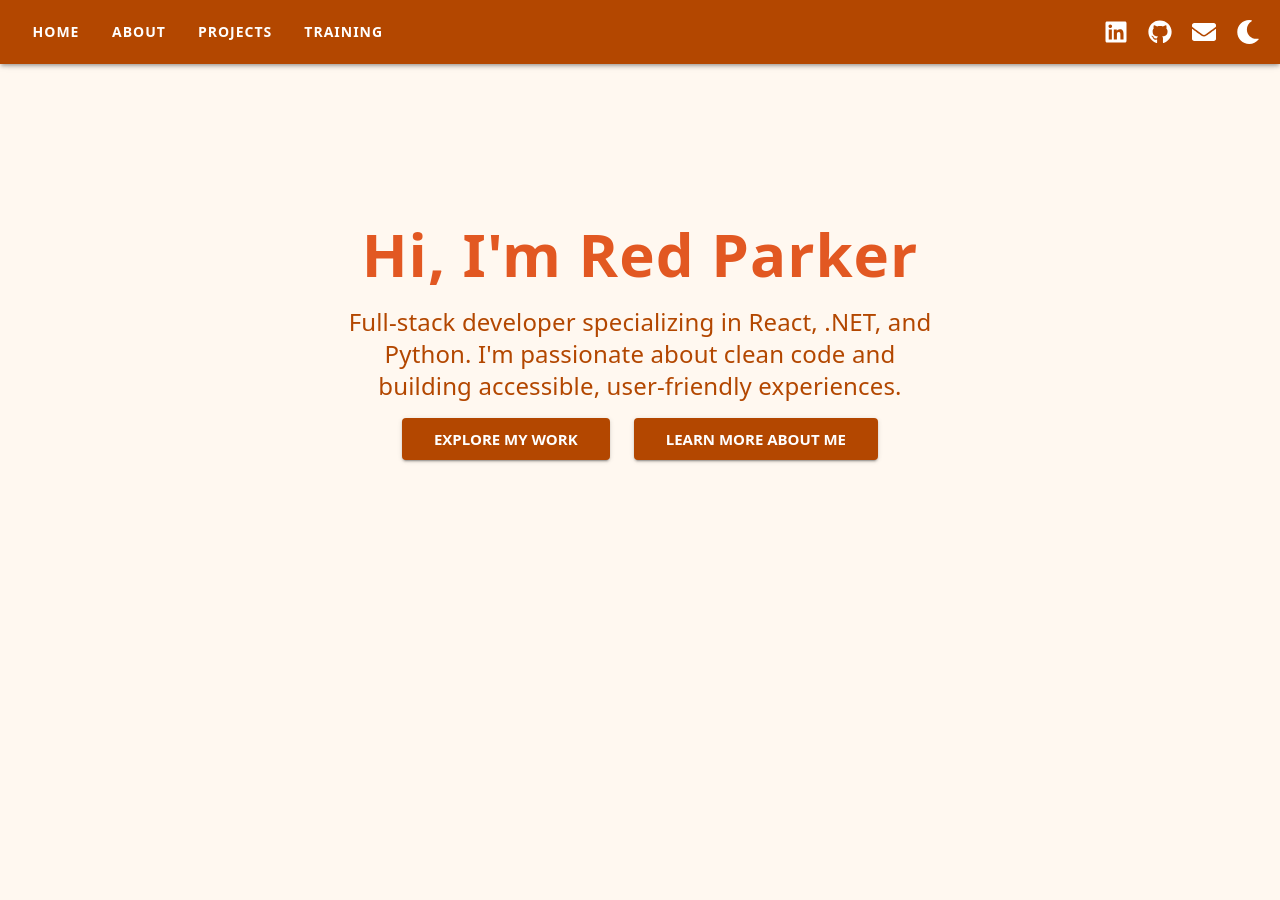
Test: App Navbar and Navigation › renders Home and navigates to Projects and About via Home page buttons
This screenshot has width=1280, height=900.
Expected: the heading "Hi, I'm Red Parker" is shown, [362,218,918,290]
# Click "Explore my work" (should go to Projects)
Click the button "Explore my work".
click(506, 439)  # box [402,418,610,460]
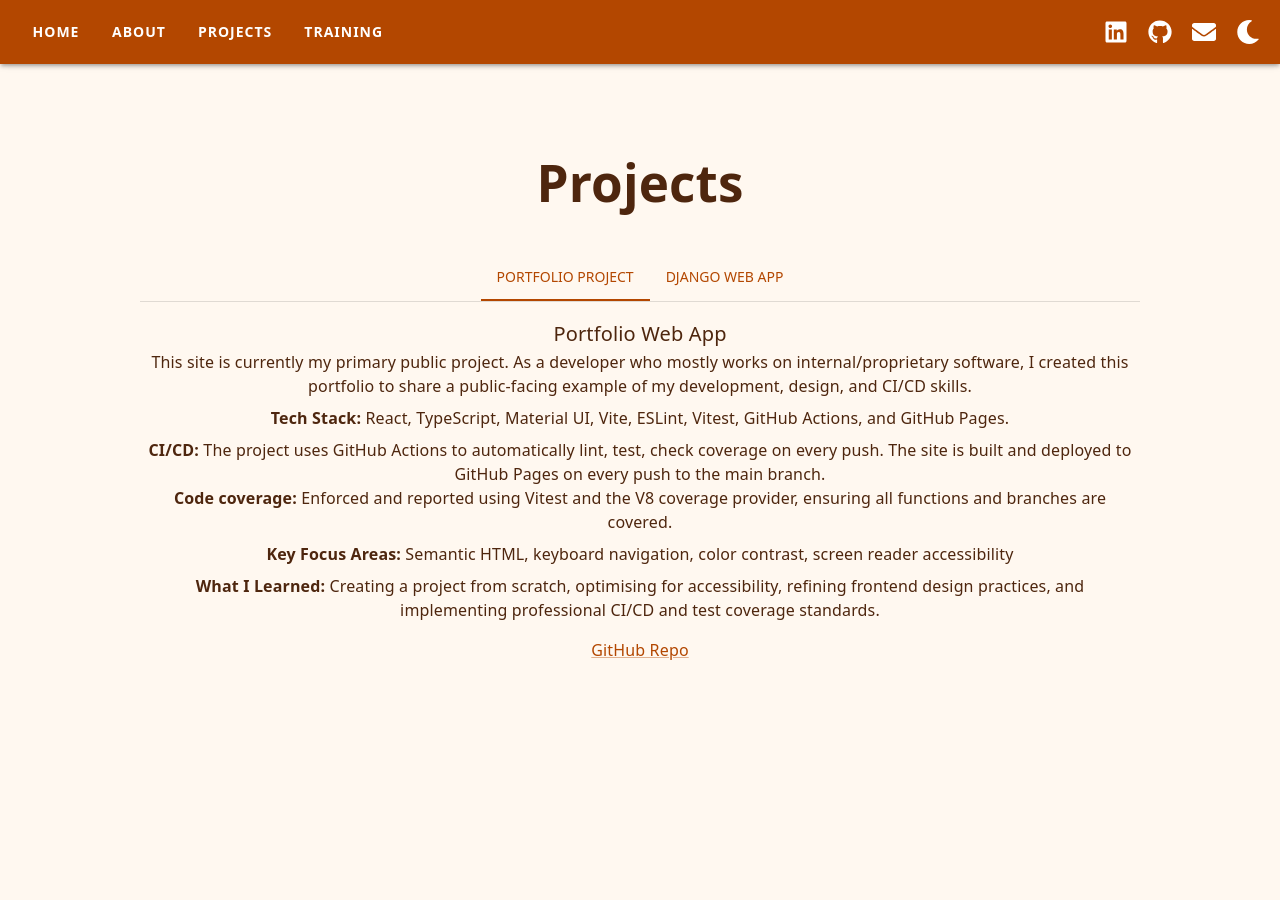
Expected: the heading "Projects" is shown, [536,147,744,217]
# Go back to Home
Click the button "Home".
click(56, 32)  # box [24,14,88,50]
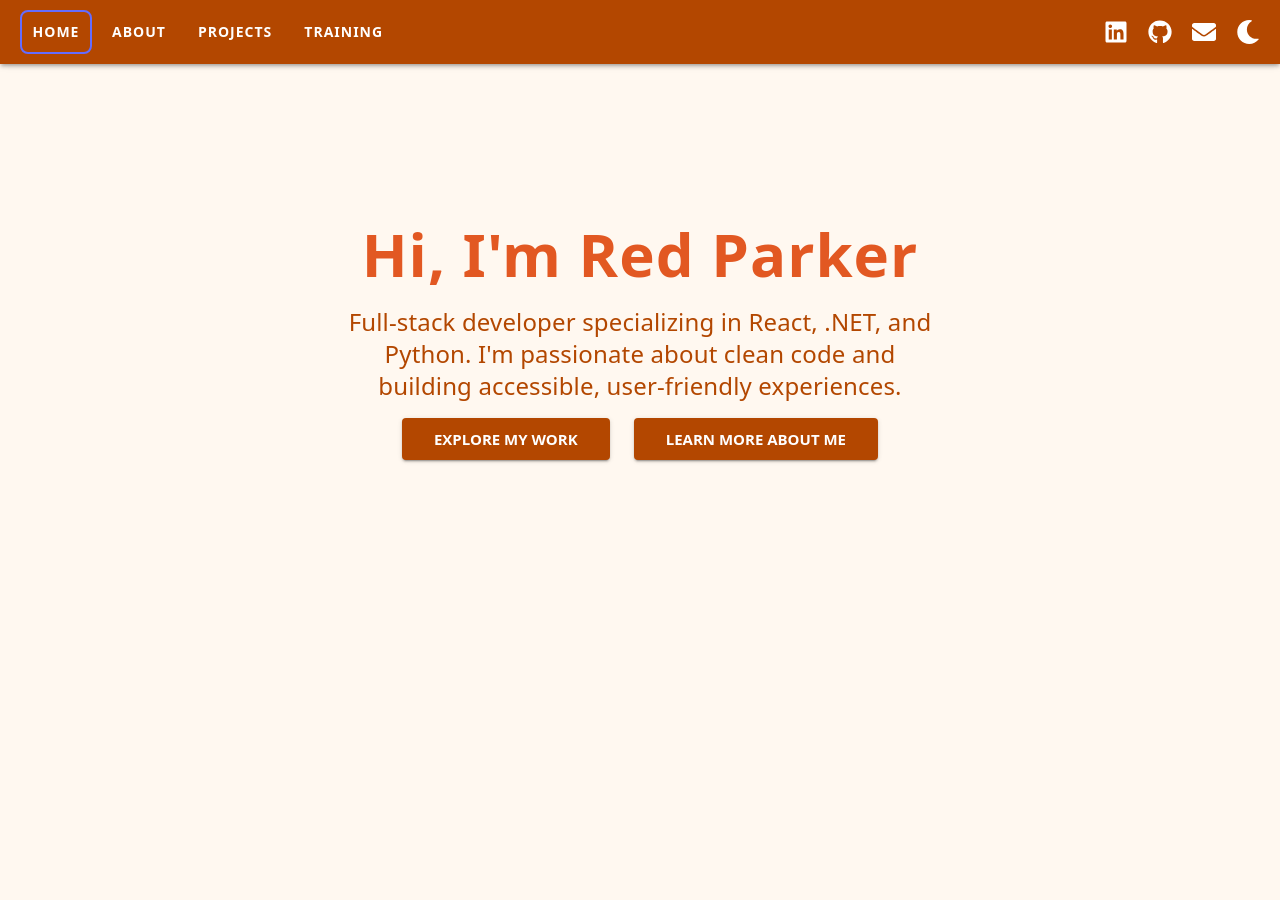
# Click "Learn more about me" (should go to About)
Click the button "Learn more about me".
click(756, 439)  # box [634,418,878,460]
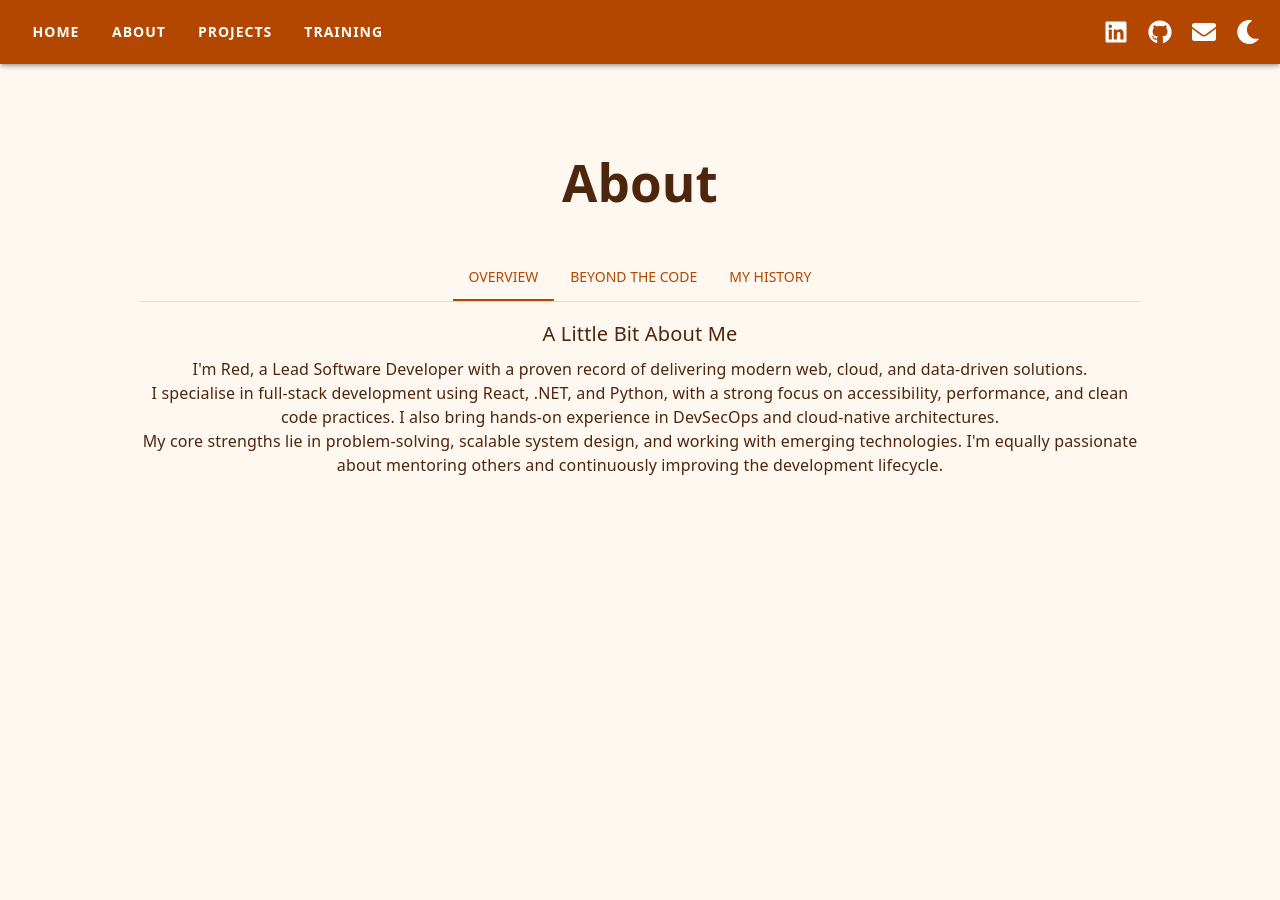
Expected: the heading "A Little Bit About Me" is shown, [543,320,737,347]
